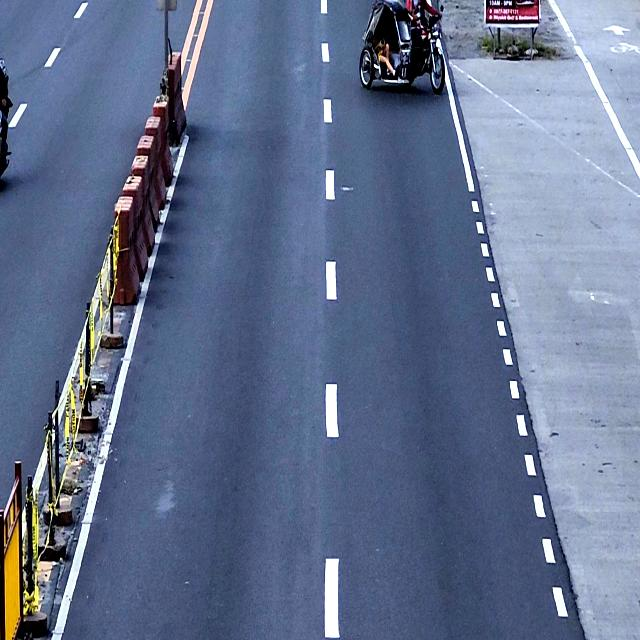Motorcycle: (0, 58, 12, 182)
Tricycle: (358, 0, 448, 95)
